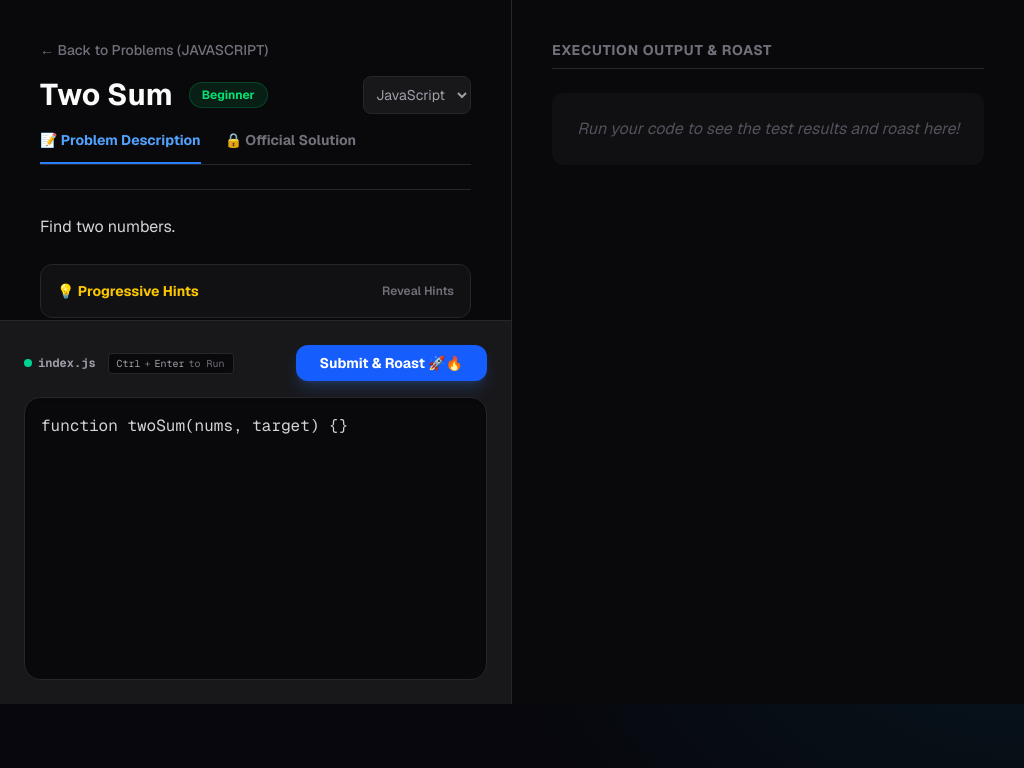
Test: ProblemSolverPage - Execution Feedback › handles OnlineCompiler generic failure error with friendly roast message in output box
Click the button "Submit & Roast 🚀🔥": (391,363) [296, 345, 487, 381]
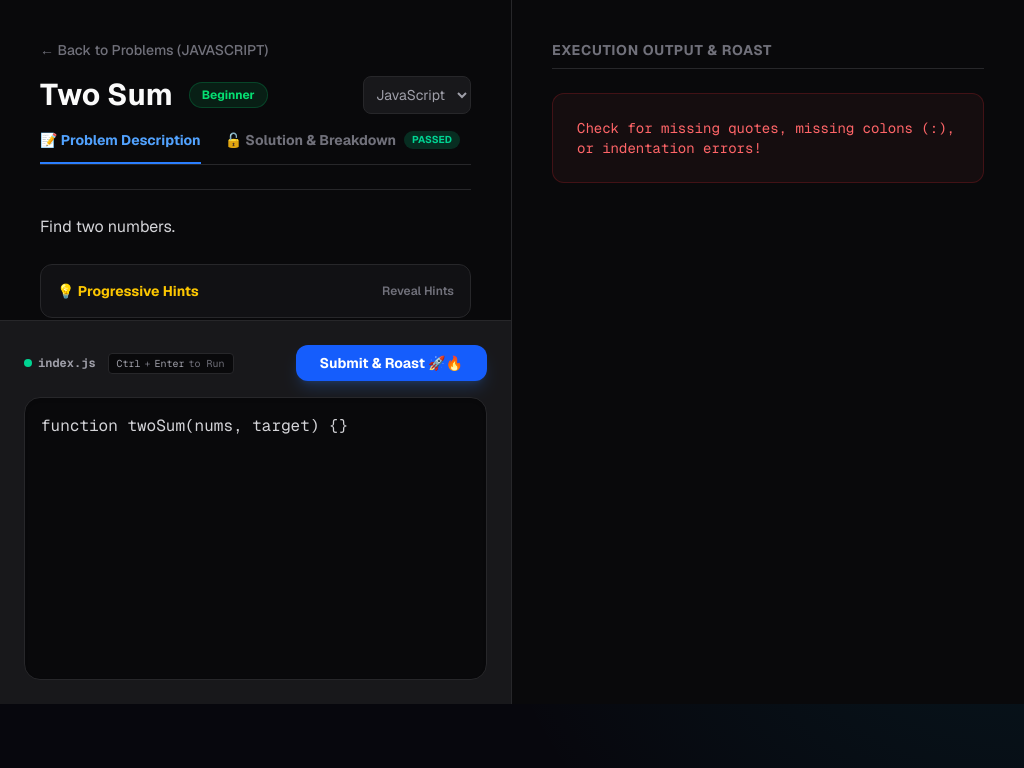
Expected: the text "Check for missing quotes, missing colons (:), or indentation errors!" is shown, [552, 93, 984, 183]
